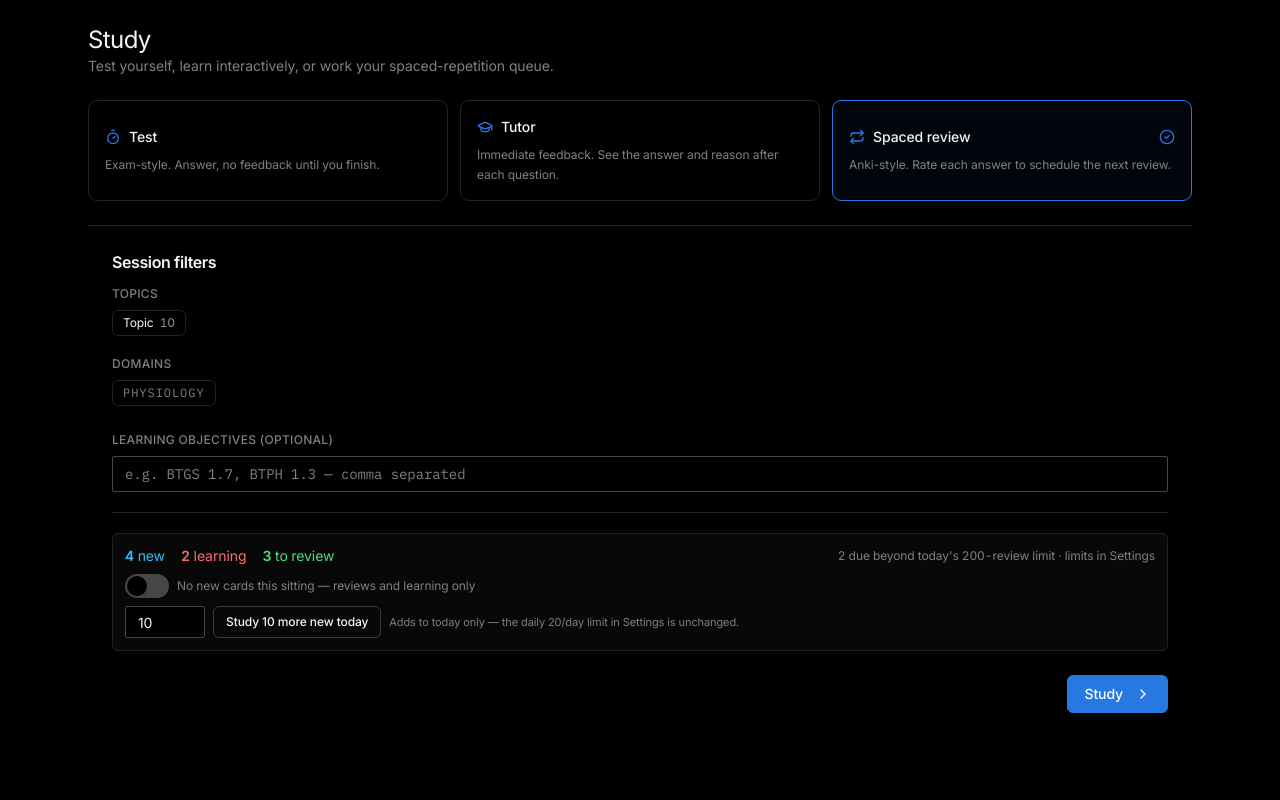
SRS sitting — undoing a misclicked rating › undoing an Again removes the copy it requeued, so the question isn't queued twice
The width and height of the screenshot is (1280, 800).
Click the button with test id "button-start-session": (1118, 694) [1067,675,1168,713]
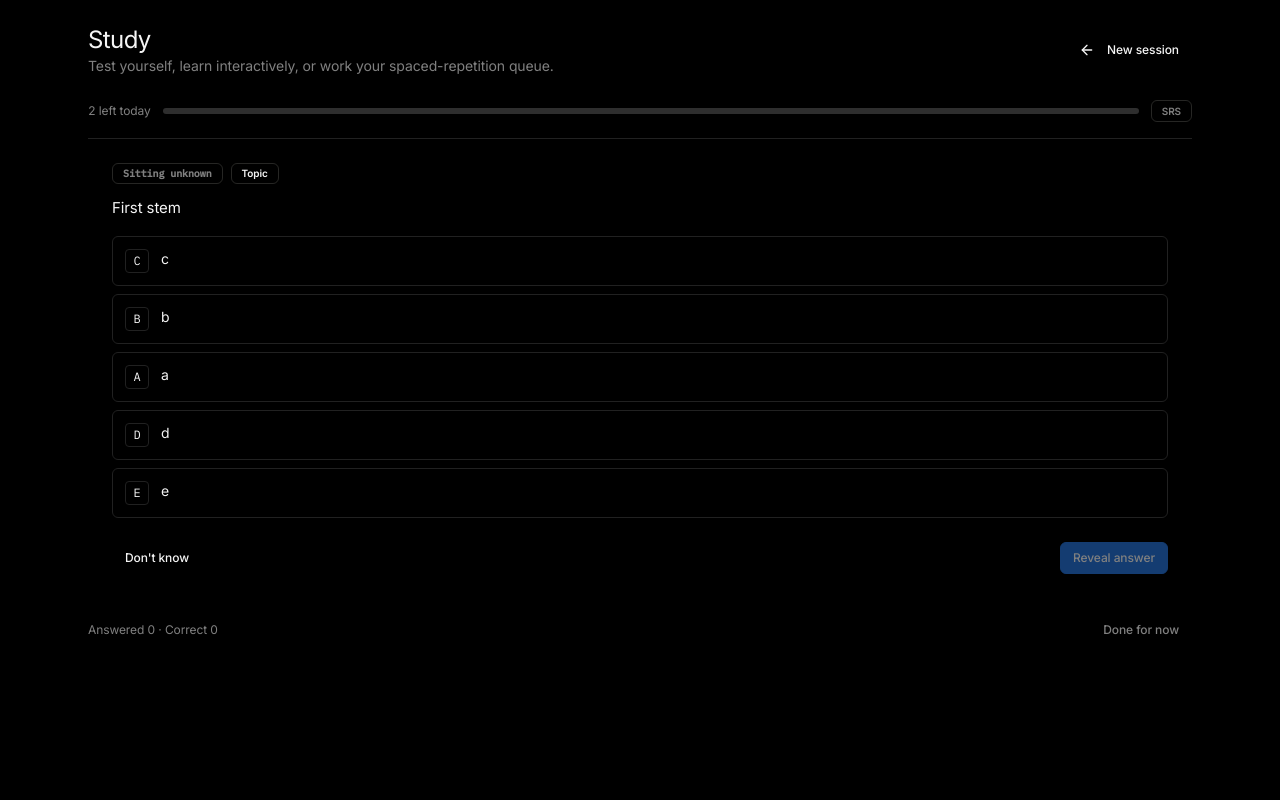
Expected: the text with test id "text-progress" reads "2 left today", [88,103,151,118]
Click the button with test id "button-option-A": (137, 377) [112,352,1168,402]
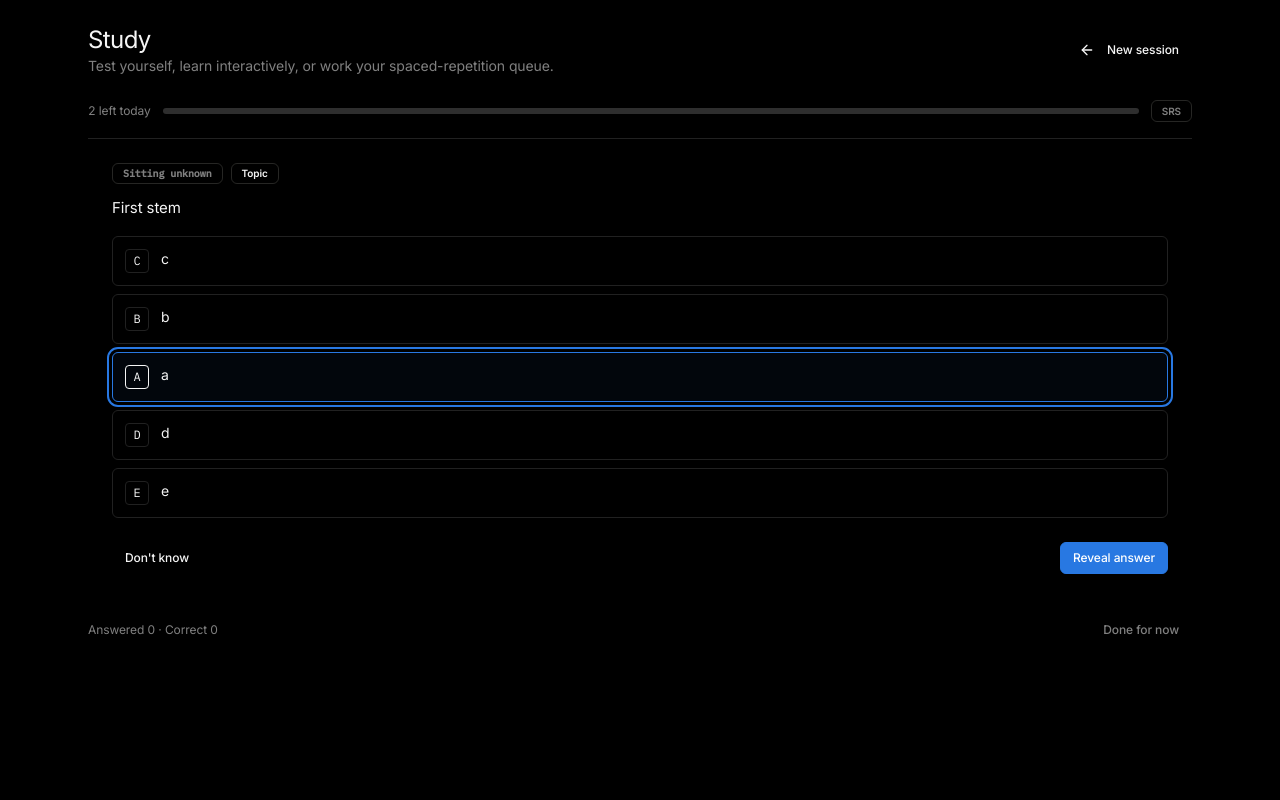
Click the button with test id "button-submit": (1114, 558) [1060,542,1168,574]
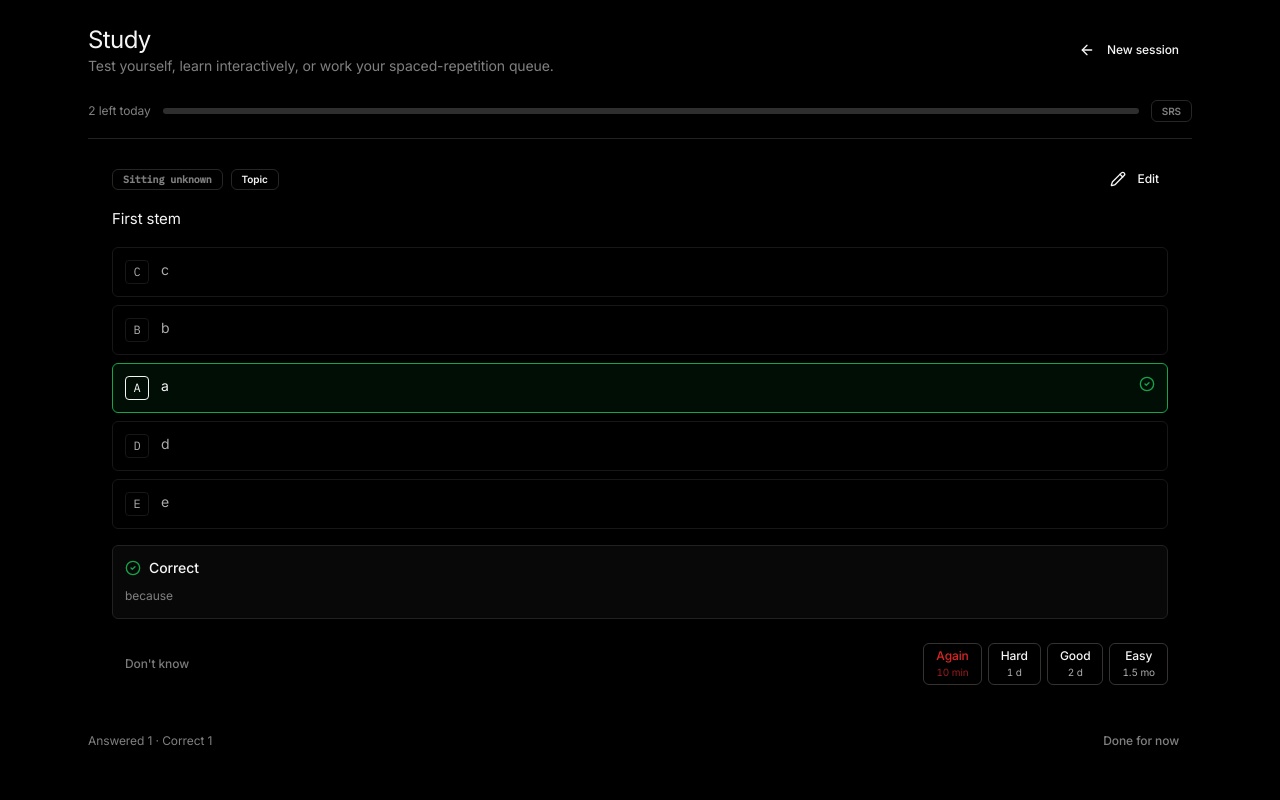
Expected: the element with test id "panel-feedback" is shown, [112,545,1168,619]
Click the button with test id "button-rate-again": (952, 664) [923,643,982,685]
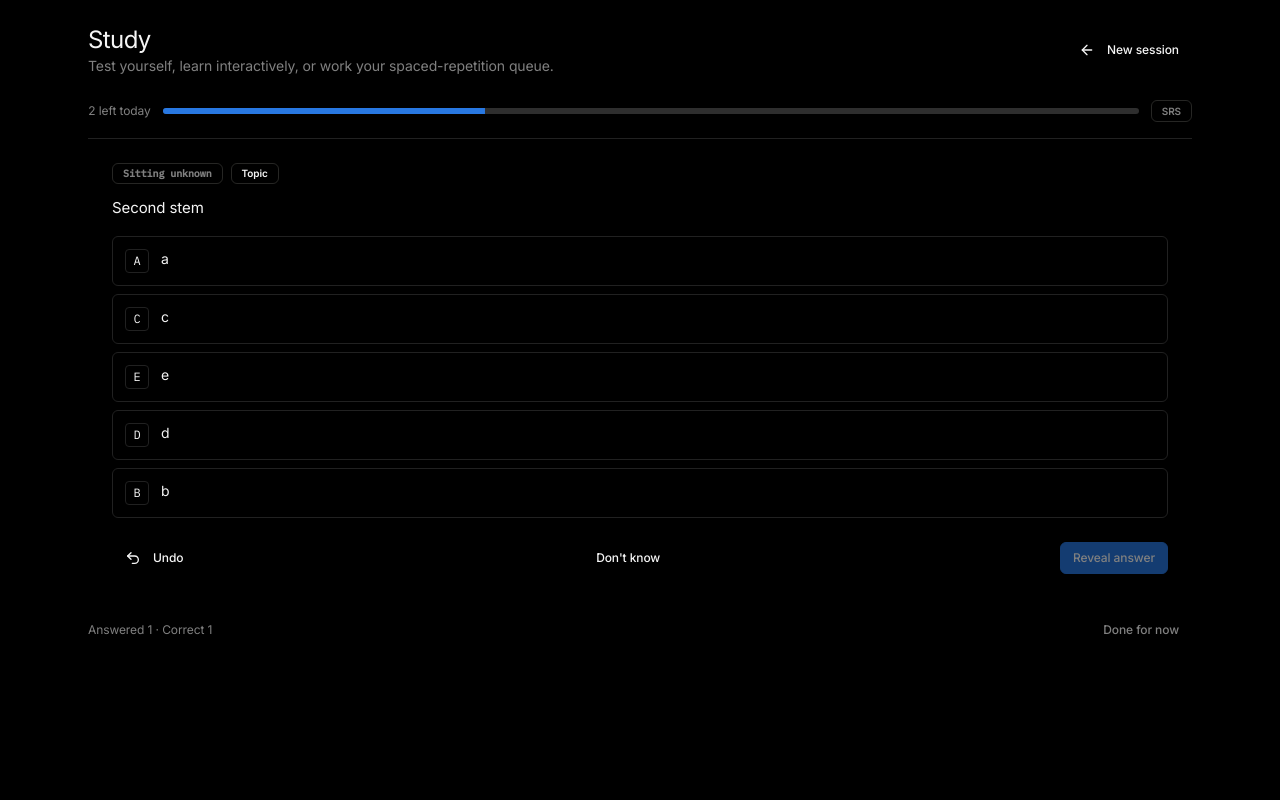
Expected: the text with test id "text-progress" reads "2 left today", [88,103,151,118]
Expected: the text "Second stem" is shown, [112,198,204,217]
Click the button with test id "button-undo-rating": (154, 558) [112,542,196,574]
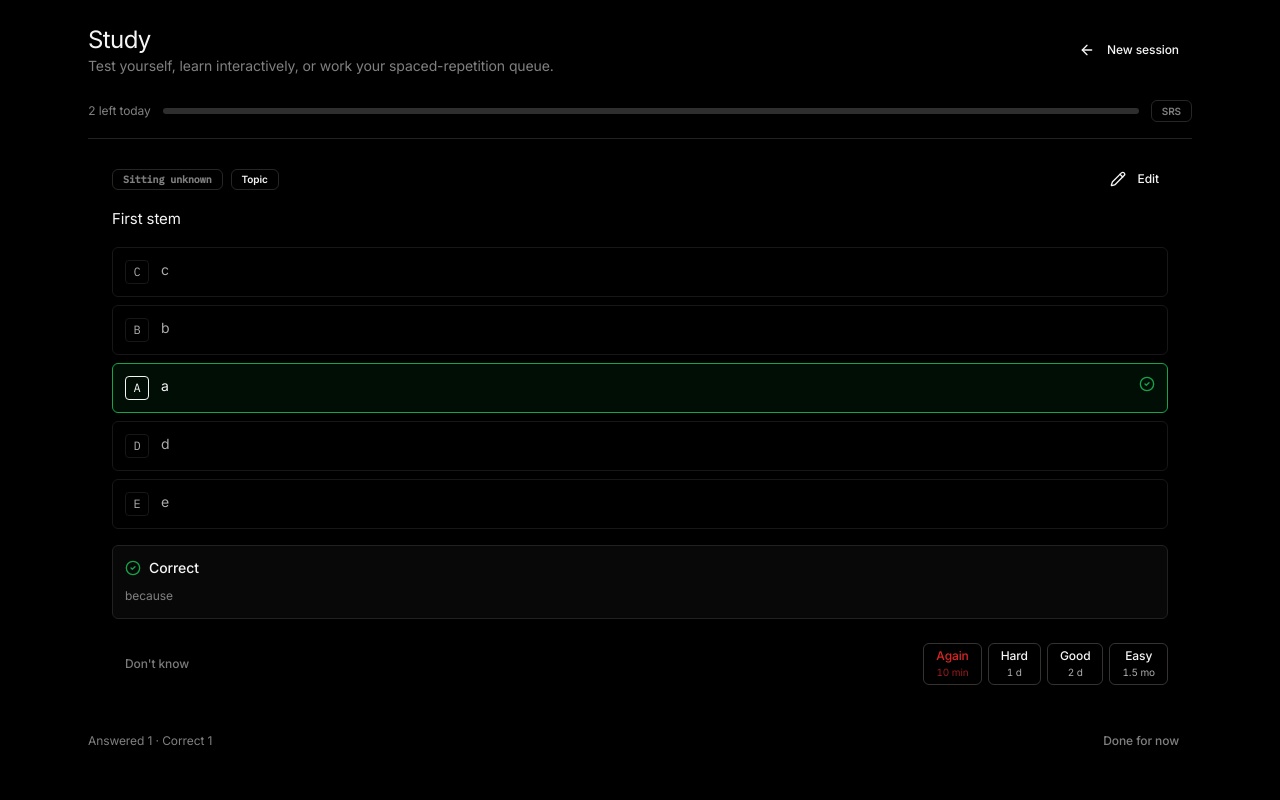
Expected: the text with test id "text-progress" reads "2 left today", [88,103,151,118]
Expected: the text "First stem" is shown, [112,209,181,228]
Expected: the button with test id "button-rate-again" is shown, [923,643,982,685]
